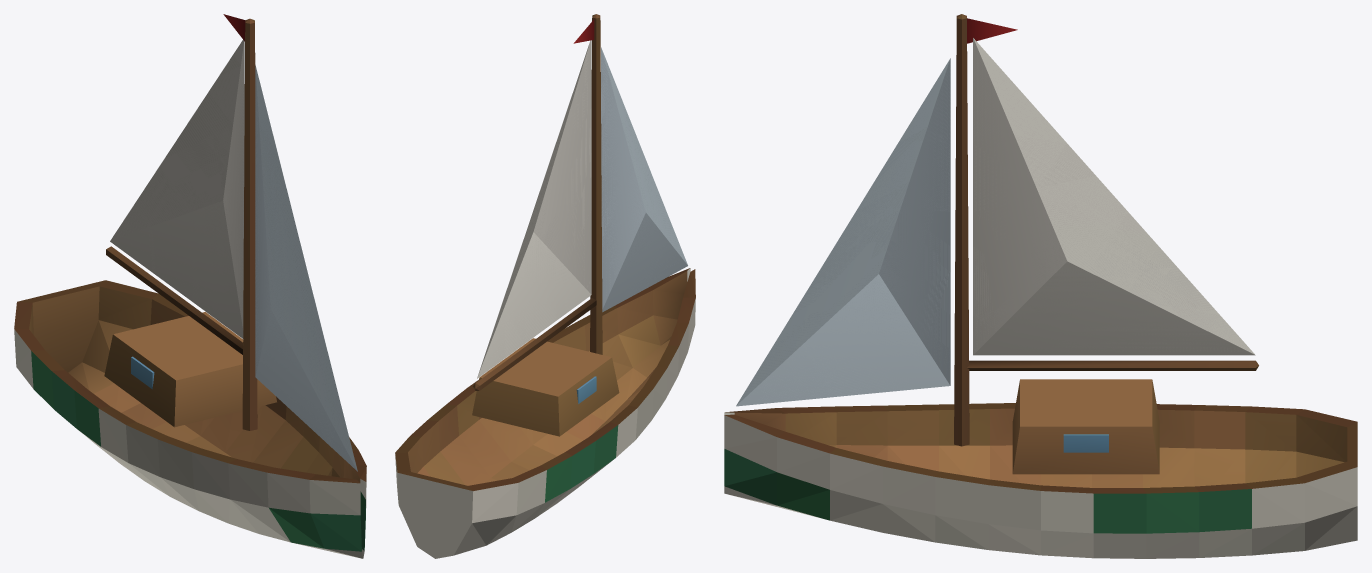
File: Boat_Meadow_1.fbx
3 renders of one model, left to right at view 1: azimuth 30°, elevation 25°; view 2: azimuth 150°, elevation 25°; view 3: azimuth 270°, elevation 25°, orthographic. The views are drawn at different scales.
Parts seen in each view (by area): view 1: Boat_Meadow_1; view 2: Boat_Meadow_1; view 3: Boat_Meadow_1.
Part boxes in pixels (box(x1,y1,x2,y2)): Boat_Meadow_1: box(14, 14, 366, 558); Boat_Meadow_1: box(395, 14, 695, 558); Boat_Meadow_1: box(724, 14, 1357, 558).
Size of the model in its own units: 1.9 by 5.2 by 5.6.
